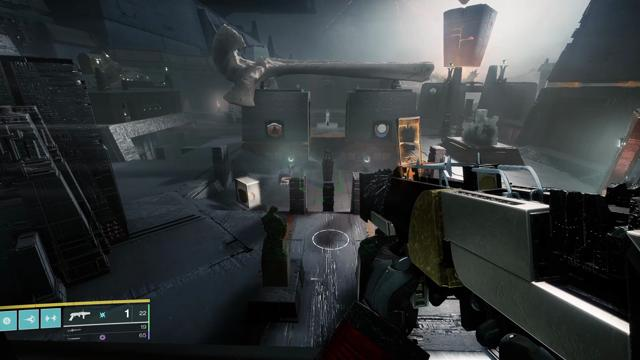pyramid: (267, 122, 283, 137)
traveler: (374, 123, 390, 138)
